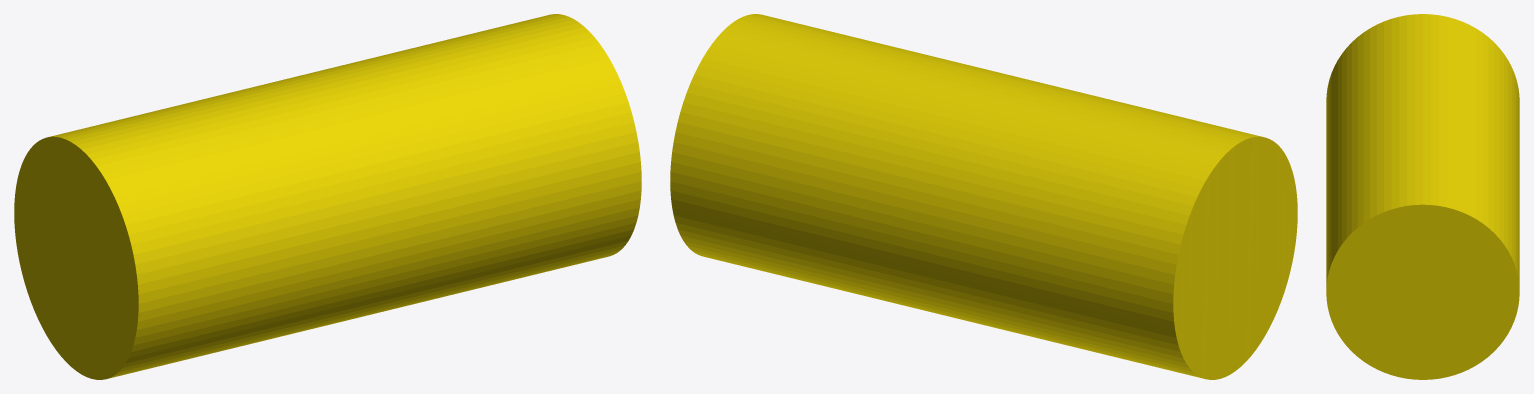
The model's file is ken_part2.dae.
The picture shows the model from 3 angles, left to right: view 1: azimuth 30°, elevation 25°; view 2: azimuth 150°, elevation 25°; view 3: azimuth 270°, elevation 25°; orthographic projection. The views are drawn at different scales.
Parts seen in each view (by area): view 1: ken_part2_sim; view 2: ken_part2_sim; view 3: ken_part2_sim.
Part boxes in pixels (left/top/right/bottom): ken_part2_sim: left=14, top=14, right=641, bottom=379; ken_part2_sim: left=670, top=14, right=1297, bottom=379; ken_part2_sim: left=1326, top=14, right=1519, bottom=379.
Bounding box in the file's own units: 0.07 × 0.03 × 0.03.
